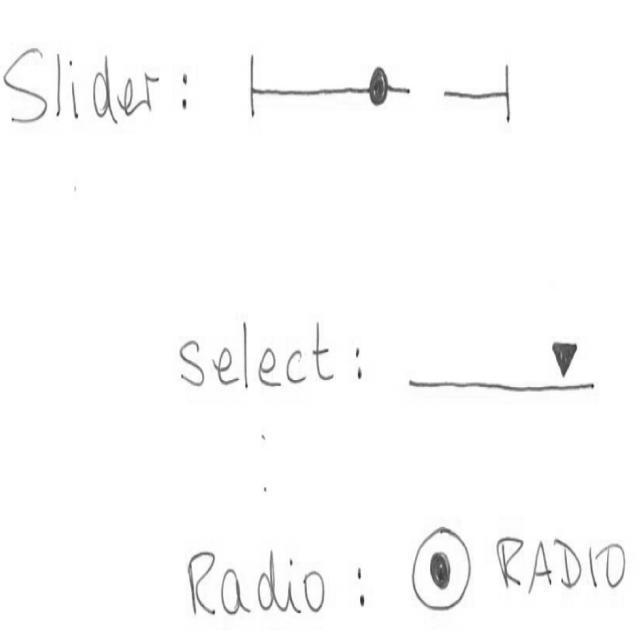radio: (409, 528, 477, 615)
select: (405, 322, 597, 398)
slider: (246, 48, 523, 130)
